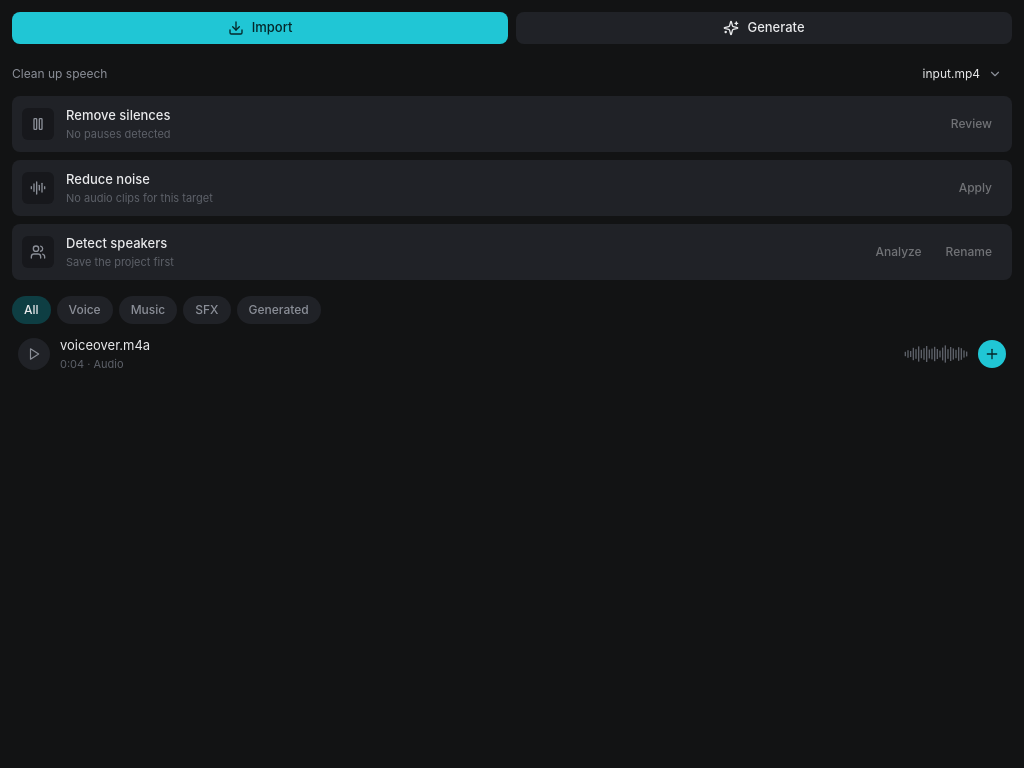
Test: AudioPanel › shows Import, and Generate opens the audio Generate view
Expected: the button with aria-label "Import audio" is enabled, [12,12,508,44]
Click the button with aria-label "Generate audio" at (764, 28), box [516,12,1012,44]
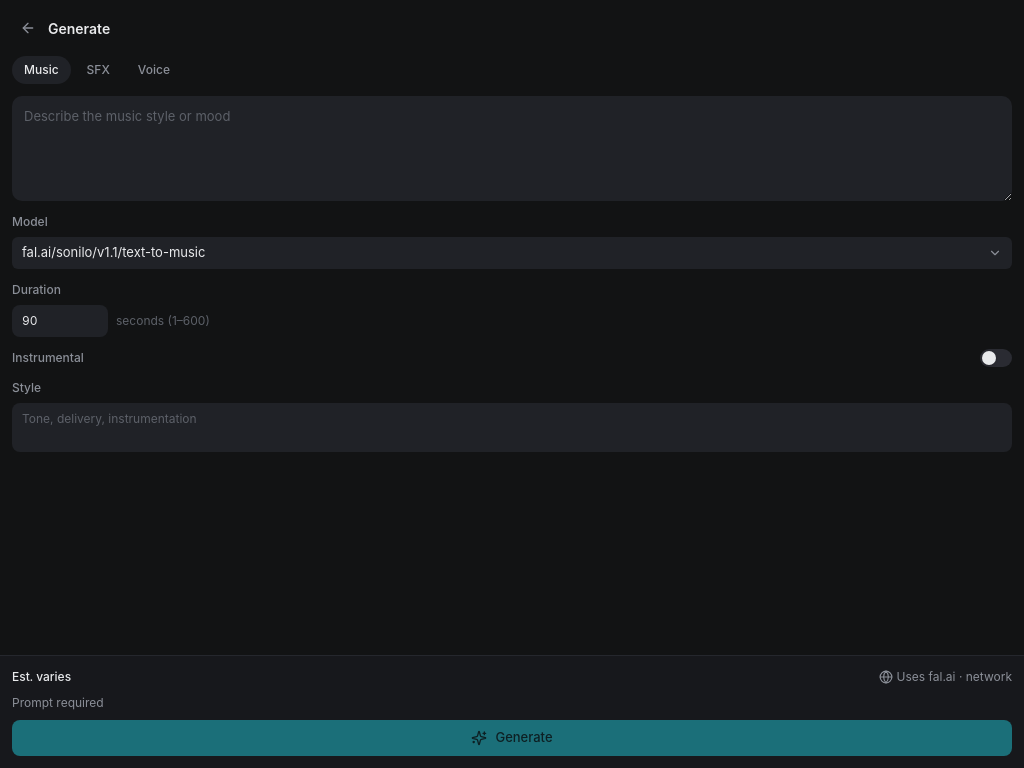
Result: the radio buttons read "Music", "SFX", "Voice", in this order at [12,56,71,84]; [75,56,122,84]; [126,56,182,84]
Click the button named "Back to audio" at (28, 28), box [12,12,44,44]
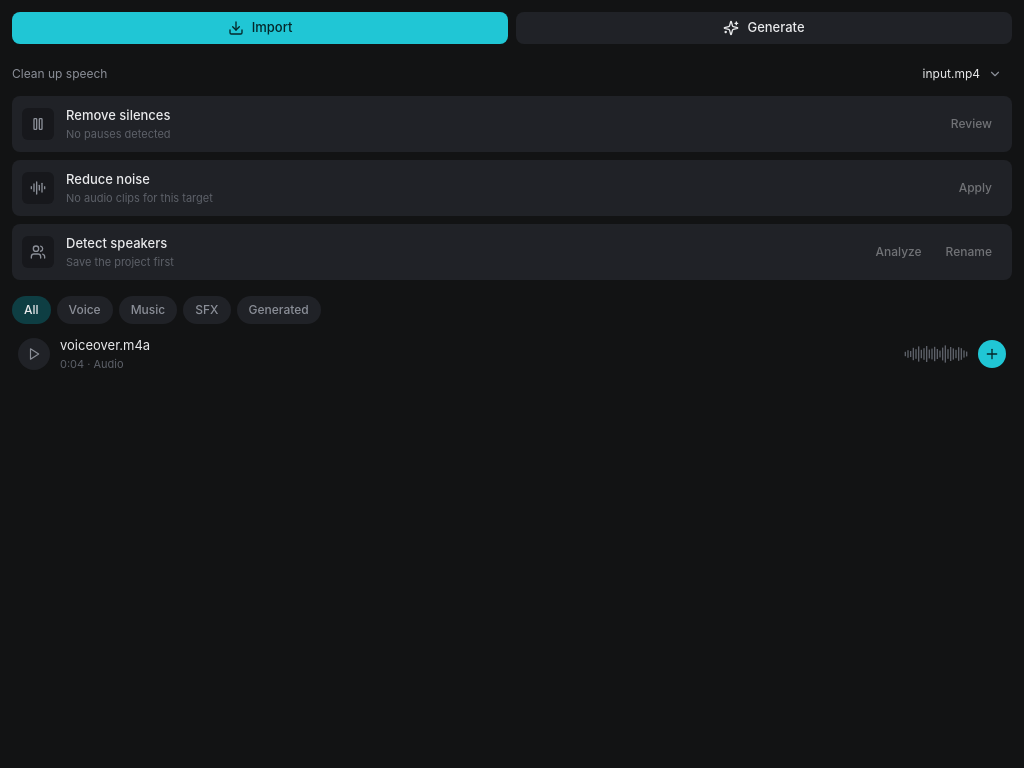
Result: the button with aria-label "Generate audio" is shown at [516,12,1012,44]
